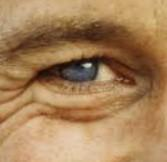eye: (58, 61, 100, 83)
